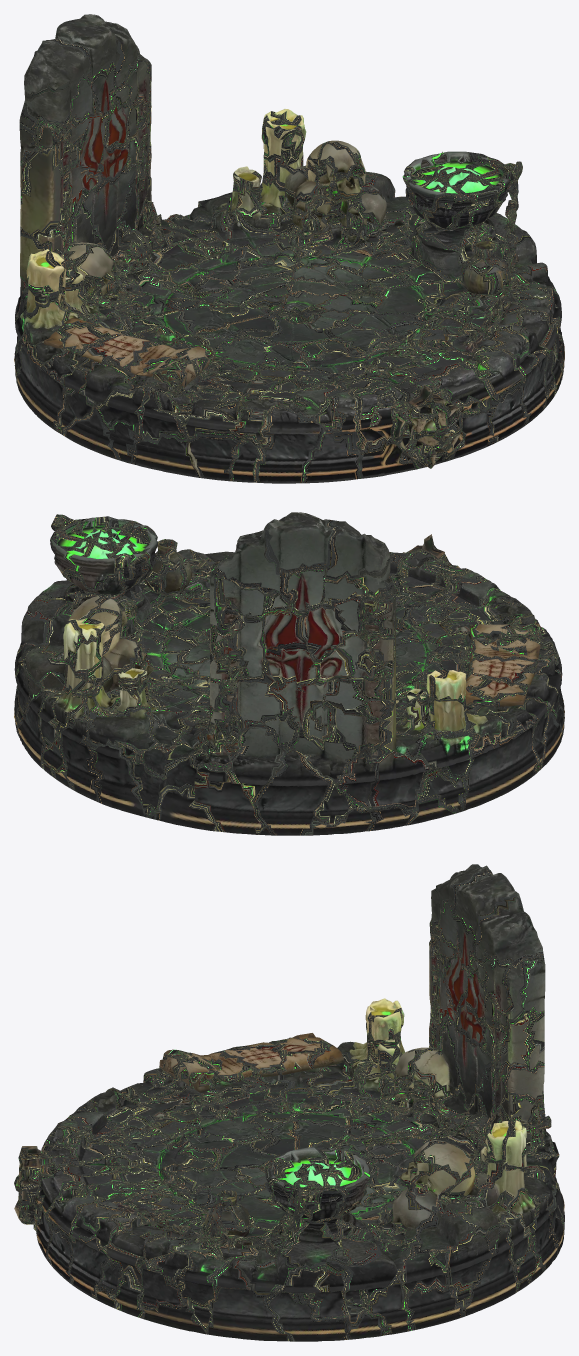
File: ritual-circle.glb
3 renders of one model, top to bottom at view 1: azimuth 30°, elevation 25°; view 2: azimuth 150°, elevation 25°; view 3: azimuth 270°, elevation 25°, orthographic. The views are drawn at different scales.
Bounding box in the file's own units: 1.87 × 1.12 × 1.9.
Materials: 1 (1 with a texture image).
